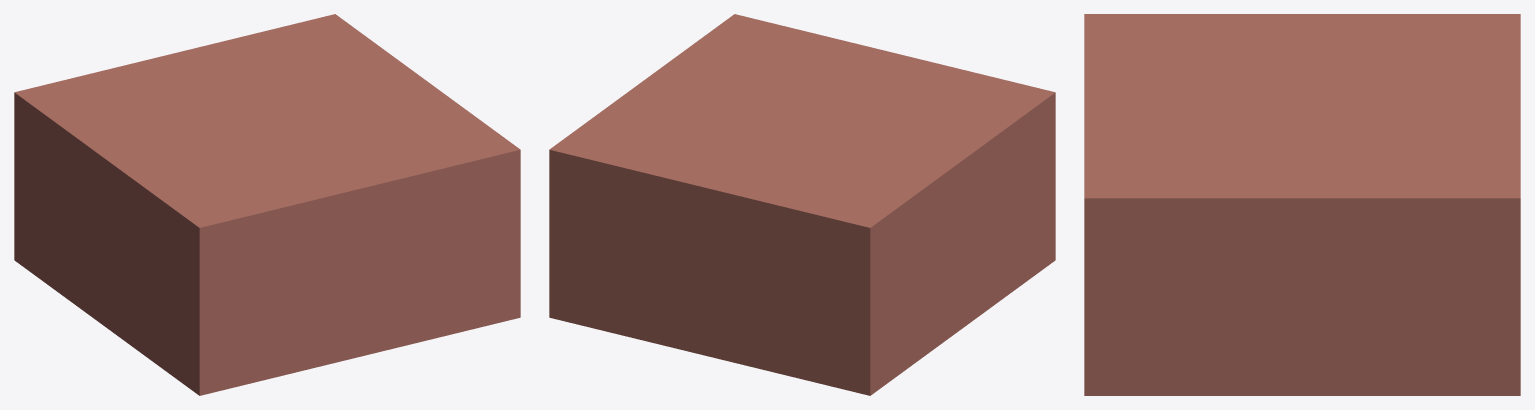
The model's file is Hazard_TopHalf.glb.
3 views of the same model, side by side, from view 1: azimuth 30°, elevation 25°; view 2: azimuth 150°, elevation 25°; view 3: azimuth 270°, elevation 25° (orthographic). The views are drawn at different scales.
Parts seen in each view (by area): view 1: Hazard_TopHalf_body; view 2: Hazard_TopHalf_body; view 3: Hazard_TopHalf_body.
Part boxes in pixels (x1,y1,x2,y2): Hazard_TopHalf_body: (14, 14, 520, 395); Hazard_TopHalf_body: (549, 14, 1055, 395); Hazard_TopHalf_body: (1084, 14, 1520, 395).
Size of the model in its own units: 1 by 0.5 by 1.
